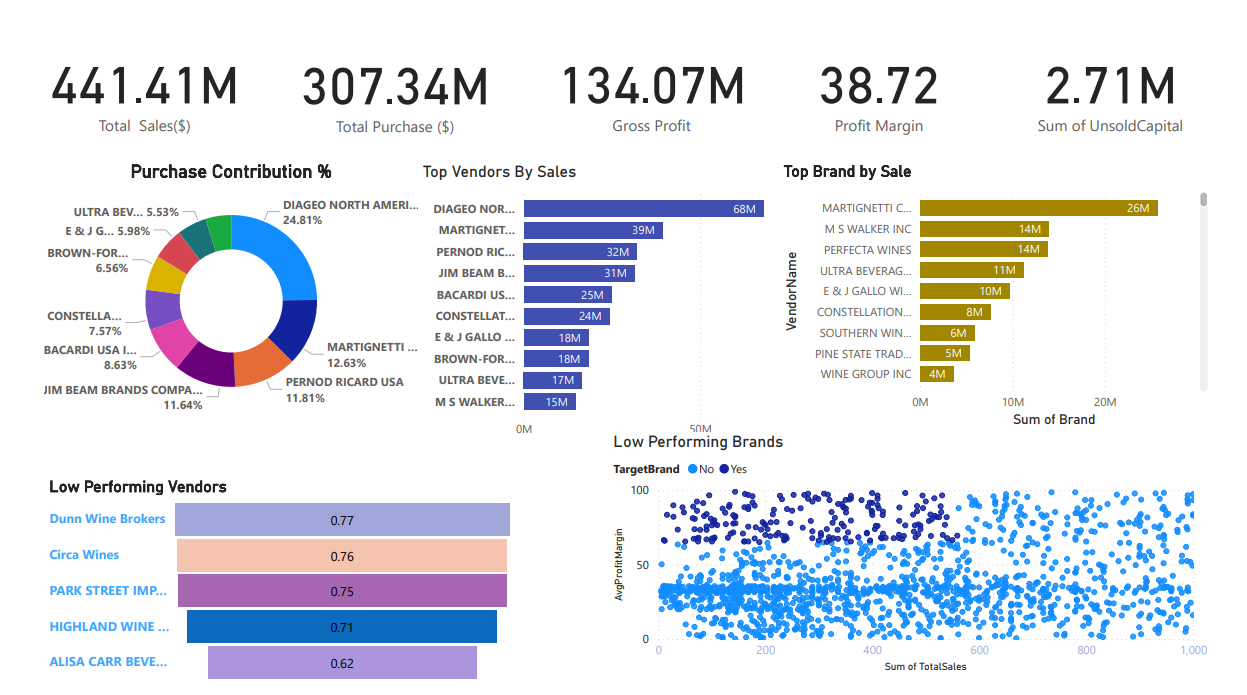

Layout of this report page (visuals, bound fields, positions):
{"tool":"powerbi","page":{"name":"Page 1","canvas":[1280,720],"ordinal":0},"visuals":[{"type":"card","fields":{"Values":["Sum(vendor_sales_summary.TotalSalesDollars)"]},"box":[30,18.6,210,150],"z":0},{"type":"card","fields":{"Values":["Sum(vendor_sales_summary.TotalPurchaseDollars)"]},"box":[291.4,20,212.9,150],"z":1},{"type":"card","fields":{"Values":["Sum(vendor_sales_summary.GrossProfit)"]},"box":[561.4,18.6,210,150],"z":2},{"type":"card","fields":{"Values":["Avg(vendor_sales_summary.ProfitMargin)"]},"box":[798.6,18.6,210,150],"z":3},{"type":"card","fields":{"Values":["Sum(vendor_sales_summary.UnsoldCapital)"]},"box":[1040,18.6,212.9,150],"z":4},{"type":"donutChart","title":"Purchase Contribution % ","fields":{"Category":["PurchaseContribution.VendorName"],"Y":["Sum(PurchaseContribution.PurchaseContribution%)"]},"box":[30,168.6,391.4,272.9],"z":5},{"type":"barChart","title":"Top Vendors By Sales","fields":{"Category":["vendor_sales_summary.VendorName"],"Y":["Sum(vendor_sales_summary.TotalSalesDollars)"]},"box":[421.4,170,425.7,298.6],"z":6},{"type":"barChart","title":"Top Brand by Sale","fields":{"Category":["vendor_sales_summary.VendorName"],"Y":["Sum(vendor_sales_summary.Brand)"]},"box":[798.6,170,454.3,282.9],"z":7},{"type":"funnel","title":"Low Performing Vendors","fields":{"Category":["LowTurnoverVendor.VendorName"],"Y":["Avg(LowTurnoverVendor.AvgStockTurnOver)"]},"box":[30,500,497.1,220],"z":8},{"type":"scatterChart","title":"Low Performing Brands","fields":{"Category":["BrandPerformance.Description"],"X":["Sum(BrandPerformance.TotalSales)"],"Series":["BrandPerformance.TargetBrand"],"Y":["Avg(BrandPerformance.AvgProfitMargin)"]},"box":[621.4,452.9,631.4,255.7],"z":9}]}

Visuals, with their boxes in screenshot pixels (x1, y1, x2, y2), scaled from the page's 1280x720 canvas onto the 1247x695 screenshot:
card - Sum(vendor_sales_summary.TotalSalesDollars): [29, 18, 234, 163]
card - Sum(vendor_sales_summary.TotalPurchaseDollars): [284, 19, 491, 164]
card - Sum(vendor_sales_summary.GrossProfit): [547, 18, 752, 163]
card - Avg(vendor_sales_summary.ProfitMargin): [778, 18, 983, 163]
card - Sum(vendor_sales_summary.UnsoldCapital): [1013, 18, 1221, 163]
"Purchase Contribution % " donutChart: [29, 163, 411, 426]
"Top Vendors By Sales" barChart: [411, 164, 825, 452]
"Top Brand by Sale" barChart: [778, 164, 1221, 437]
"Low Performing Vendors" funnel: [29, 483, 514, 694]
"Low Performing Brands" scatterChart: [605, 437, 1221, 684]
